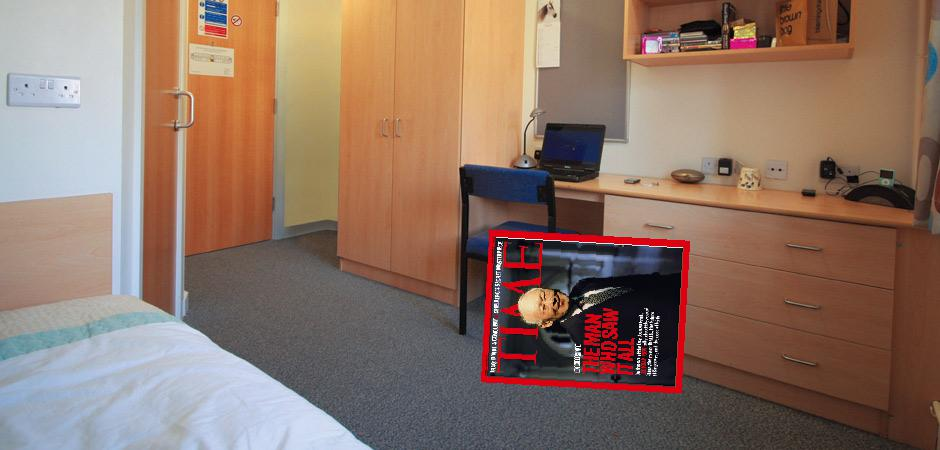times: (477, 225, 693, 395)
